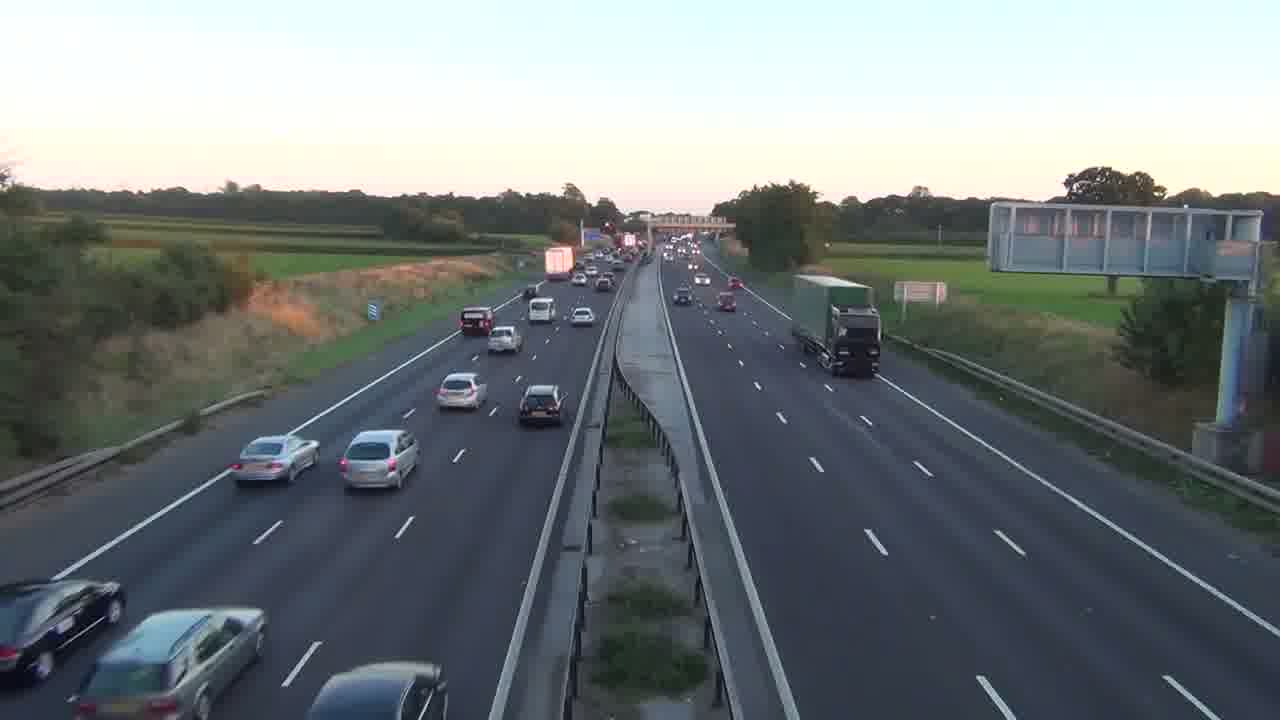car: (66, 605, 269, 718), (0, 575, 128, 689), (337, 428, 421, 491), (231, 433, 320, 486), (516, 383, 565, 426), (434, 371, 483, 411), (569, 305, 596, 327), (717, 290, 737, 312)
truck: (789, 272, 883, 377), (460, 305, 495, 337)
